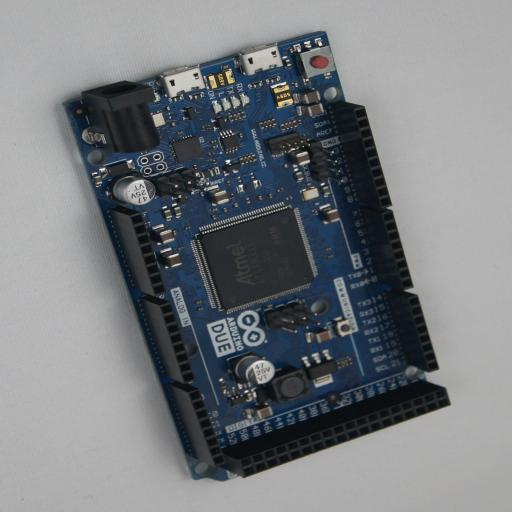Arduino Due: (62, 31, 450, 481)
